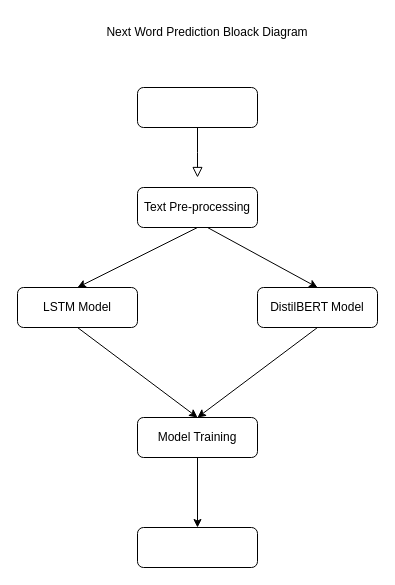
This 395x585 diagram has some shape labels left out. The box of each missing label's shape, as (x1, y1, x2, y2) in pixels:
Data Colleection: (136, 86, 258, 128)
Evaluation & Comparisonj: (136, 526, 258, 568)
